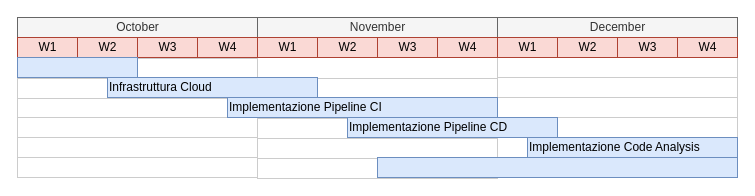
Some shapes in this 755 by 196 pixel diagram are drawn without their labels. The shapes that lost their labels are listed below. From the top down, each one's centre as x and y in pixels, then its label:
At point 77,67: "Analisi Requisiti".
At point 557,167: "Training Interno Utilizzo".
